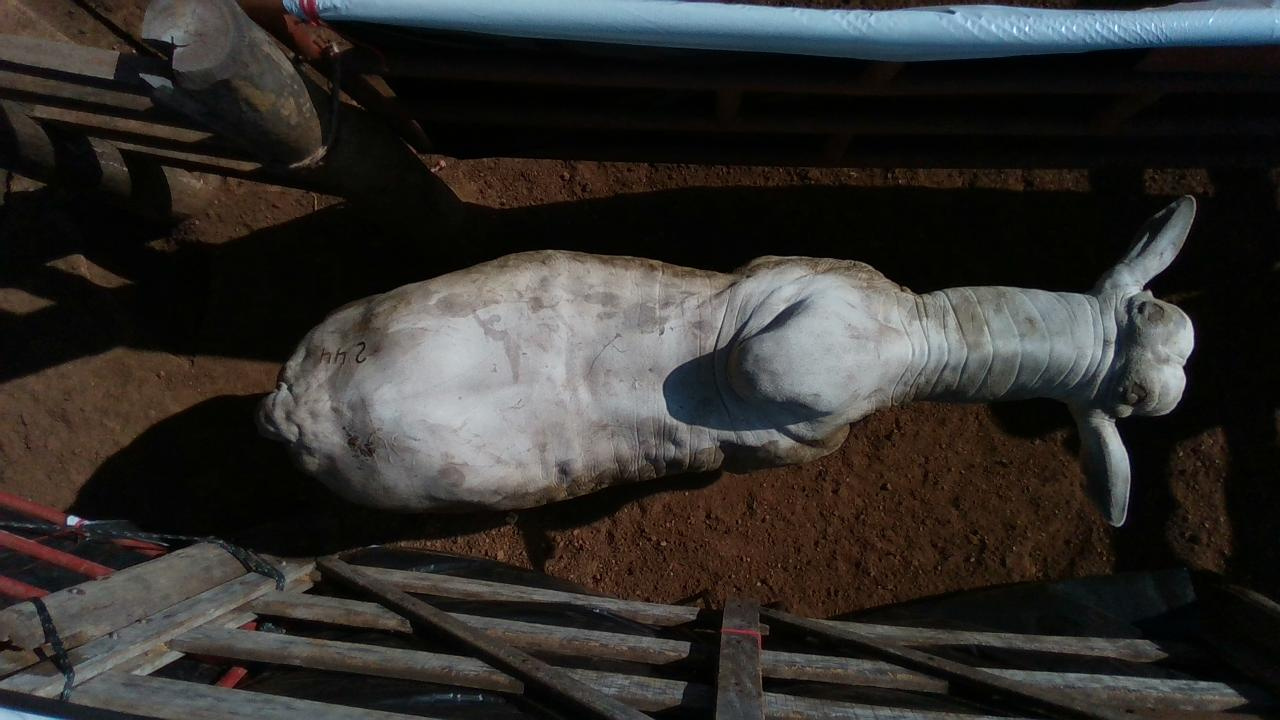cattle: (254, 192, 1198, 527)
